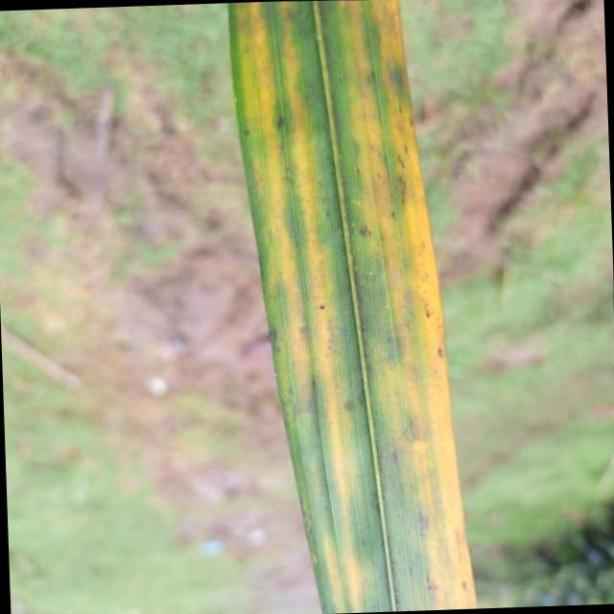Megnesium: (231, 0, 476, 614)
